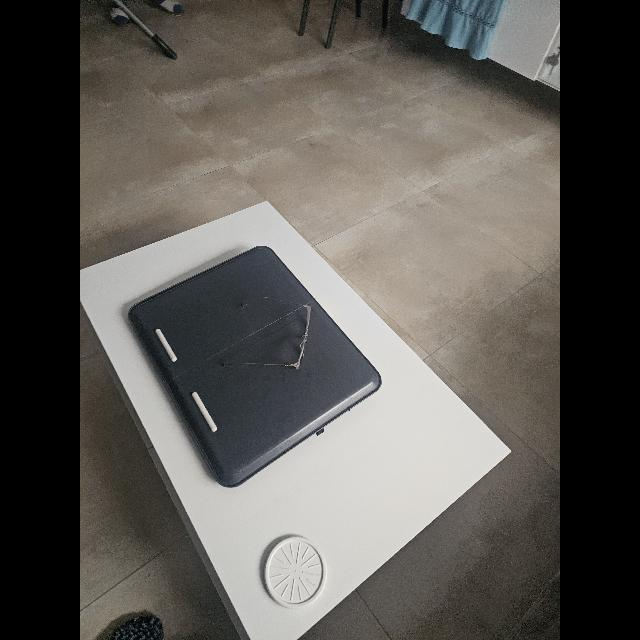glasses: (223, 296, 311, 369)
